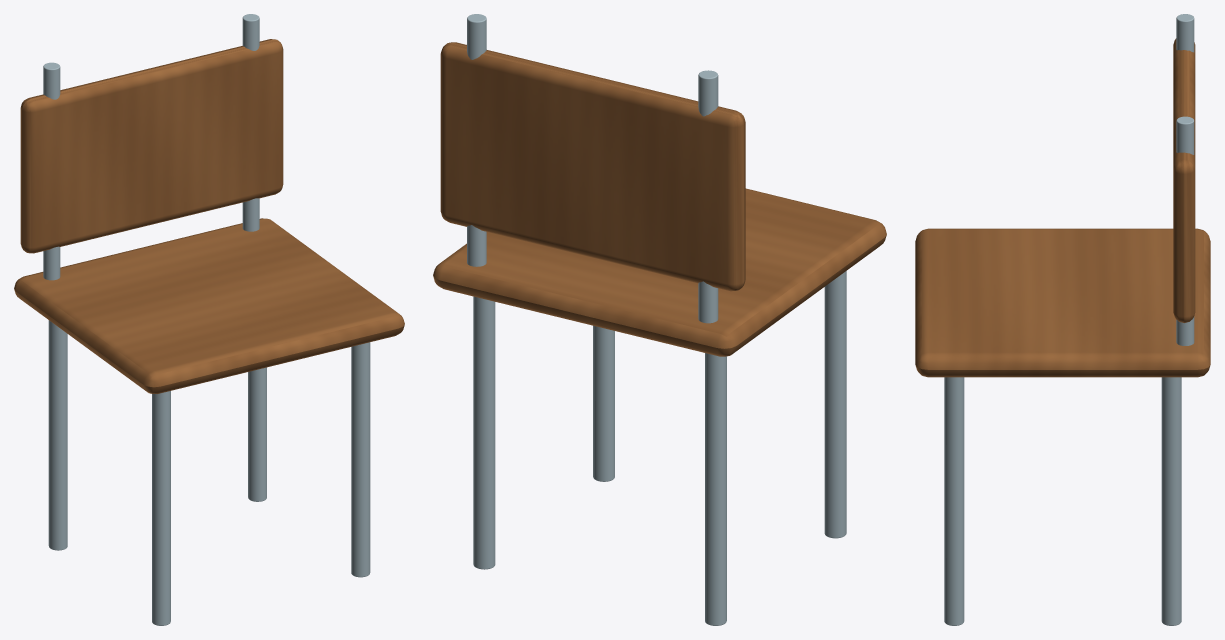
Rendered from prop_chair.glb.
The picture shows the model from 3 angles, left to right: view 1: azimuth 30°, elevation 25°; view 2: azimuth 150°, elevation 25°; view 3: azimuth 270°, elevation 25°; orthographic projection. The views are drawn at different scales.
Parts seen in each view (by area): view 1: Plywood backrest, Rounded plywood seat, Tubular chair leg.003, Tubular chair leg, Tubular chair leg.001, Tubular chair leg.002, Back support, Back support.001; view 2: Plywood backrest, Rounded plywood seat, Tubular chair leg.002, Tubular chair leg.001, Tubular chair leg, Tubular chair leg.003, Back support, Back support.001; view 3: Rounded plywood seat, Plywood backrest, Tubular chair leg.002, Tubular chair leg.003, Back support.001, Back support.
Boxes of the visible parts, x1,y1,x2,y2 form: Plywood backrest: (20, 39, 283, 253); Rounded plywood seat: (14, 218, 404, 393); Tubular chair leg.003: (351, 342, 370, 577); Tubular chair leg: (48, 320, 67, 550); Tubular chair leg.001: (152, 391, 170, 625); Tubular chair leg.002: (248, 367, 266, 501); Back support: (43, 62, 60, 280); Back support.001: (242, 14, 259, 231); Plywood backrest: (440, 42, 745, 291); Rounded plywood seat: (433, 188, 886, 356); Tubular chair leg.002: (473, 296, 495, 569); Tubular chair leg.001: (824, 271, 846, 538); Tubular chair leg: (705, 353, 726, 625); Tubular chair leg.003: (593, 325, 614, 481); Back support: (698, 70, 718, 323); Back support.001: (467, 14, 486, 266); Rounded plywood seat: (915, 228, 1210, 377); Plywood backrest: (1173, 38, 1195, 322); Tubular chair leg.002: (1161, 377, 1181, 625); Tubular chair leg.003: (944, 377, 964, 625); Back support.001: (1176, 116, 1194, 345); Back support: (1176, 14, 1194, 52).
Size of the model in its own units: 0.06 by 0.105 by 0.056.
2 materials, 1 textured.
